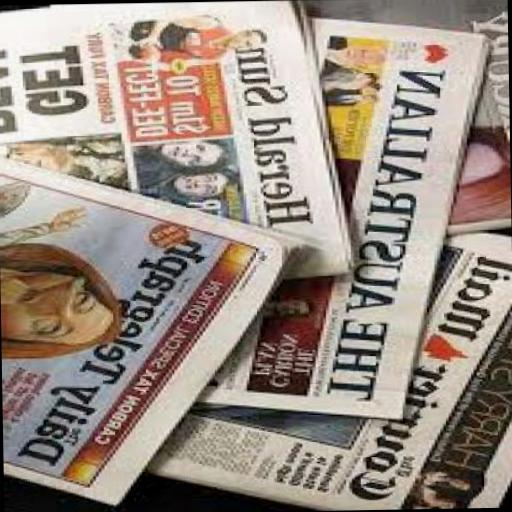paper: (183, 14, 500, 425), (1, 154, 312, 510), (143, 229, 512, 512), (0, 0, 360, 284), (299, 0, 510, 239)
